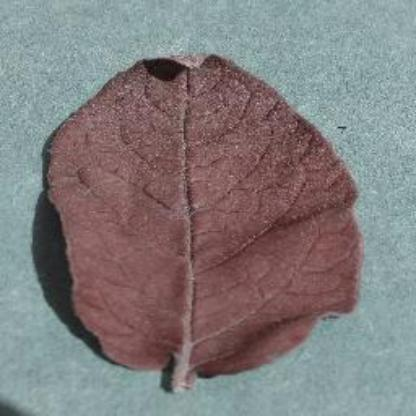Healthy-plant: (30, 44, 372, 394)
